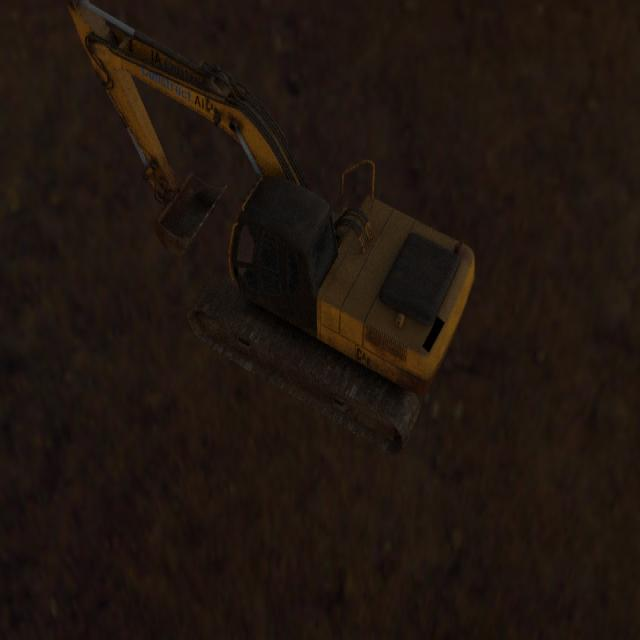excavator: (67, 0, 474, 456)
